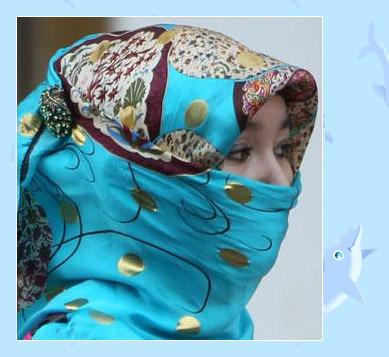WRONG: (169, 113, 306, 281)
